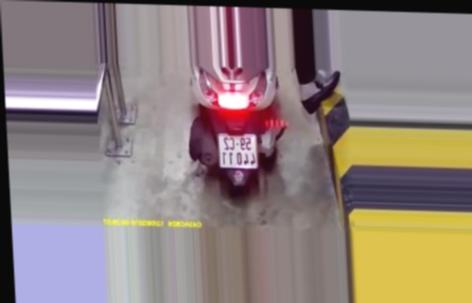License_Plate: (216, 131, 263, 173)
